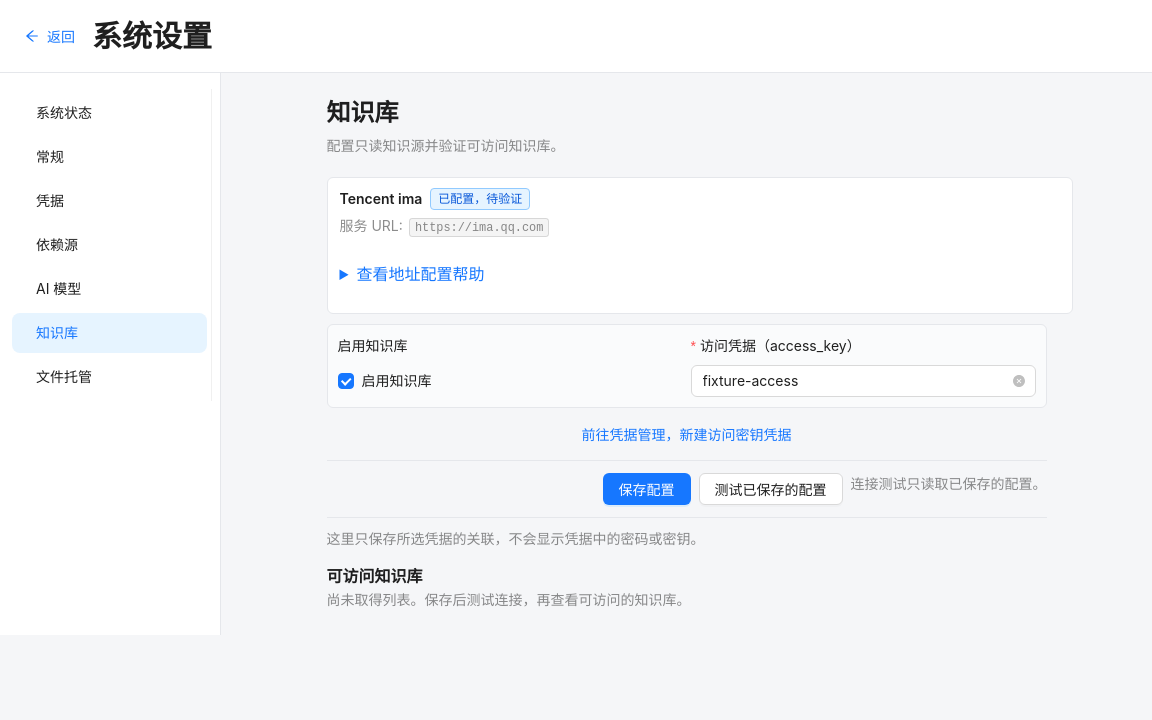
Test: blocks testing and editing until the knowledge configuration save completes
This screenshot has width=1152, height=720.
expect the element with test id "knowledge-source-summary" is shown: met, box [326,177,1072,314]
Step 1. Press the mouse on the element showing "fixture-access" → (863, 381), box [690,365,1036,397]
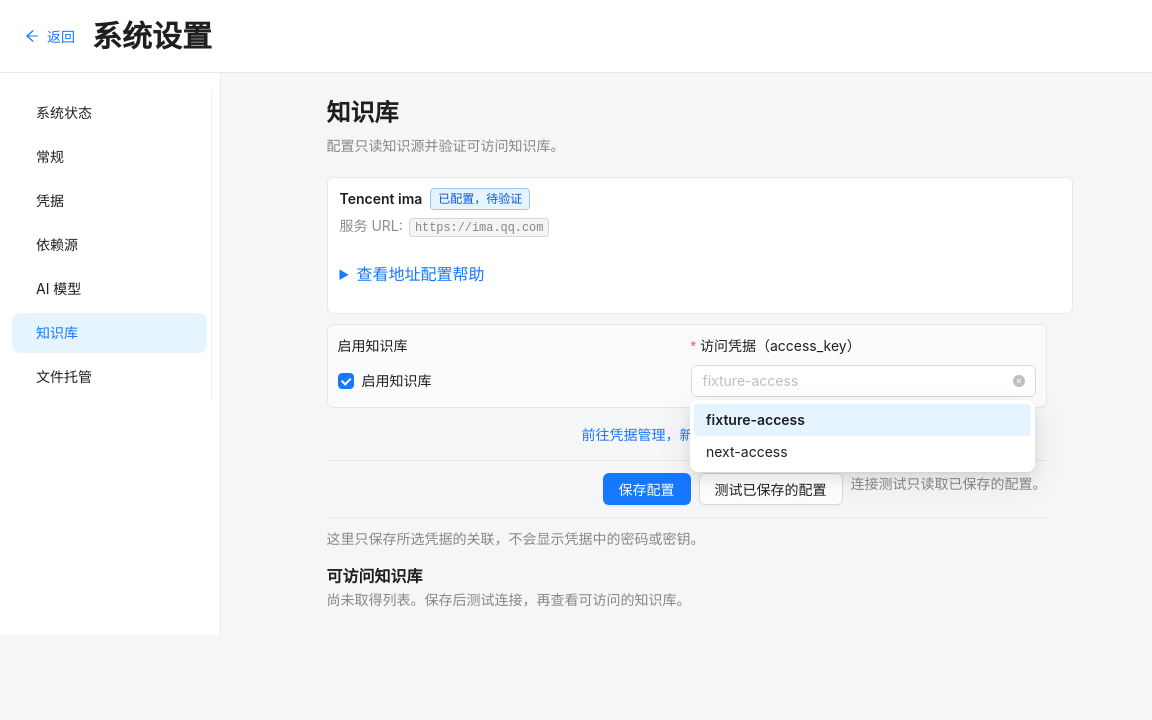
Step 2. Click the text "next-access" → (747, 452), box [706,443,788,460]
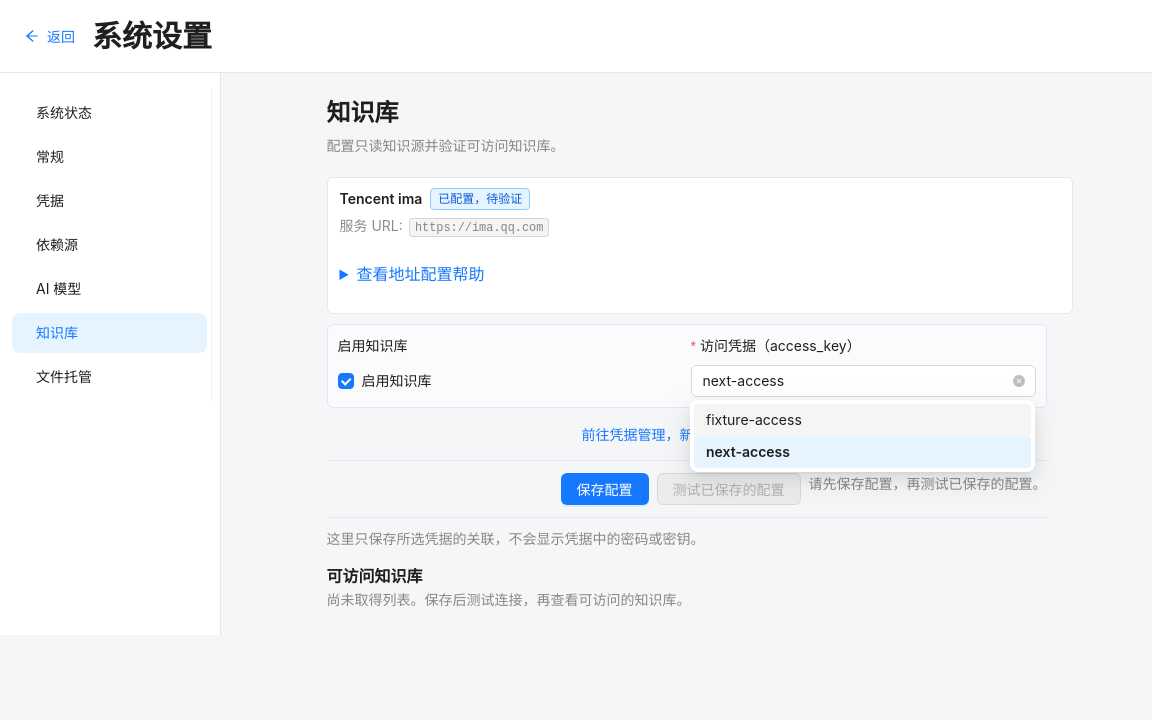
expect the button with test id "test-knowledge-source" is disabled: met, box [656,473,800,505]
Step 3. Click the button with test id "save-knowledge-source" → (604, 489), box [560,473,648,505]
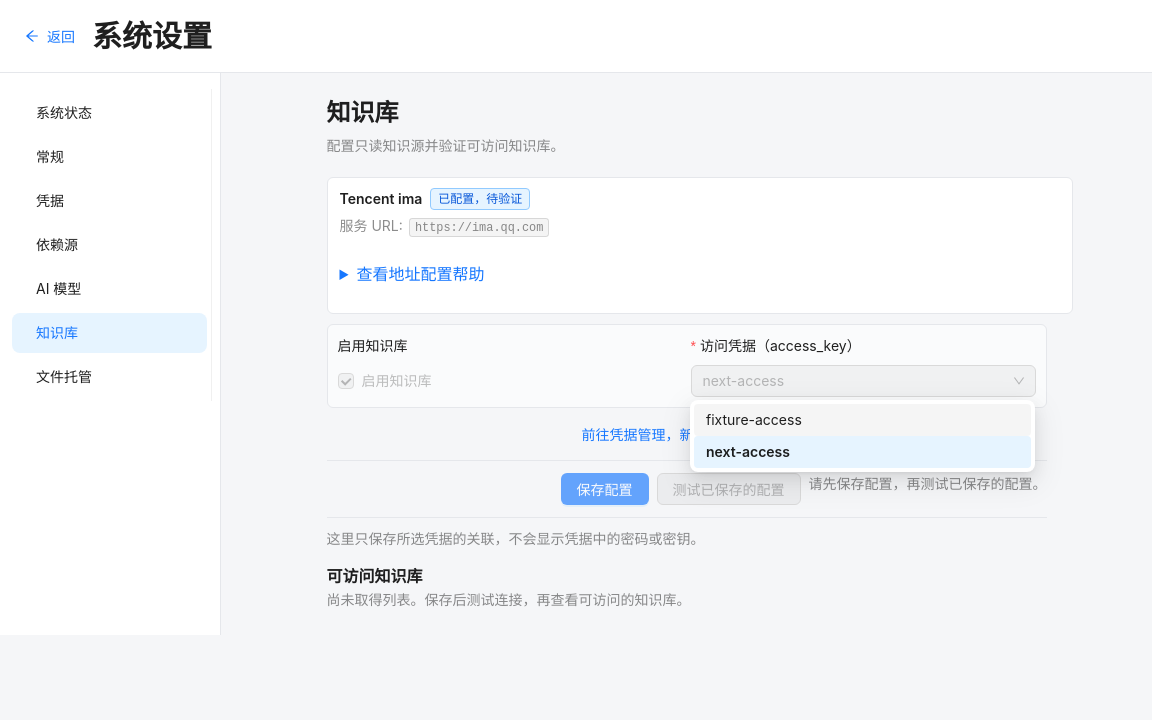
expect the checkbox with test id "knowledge-source-enabled" is disabled: met, box [338,370,440,392]
Step 4. Click the button with test id "test-knowledge-source" → (728, 489), box [656,473,800,505]
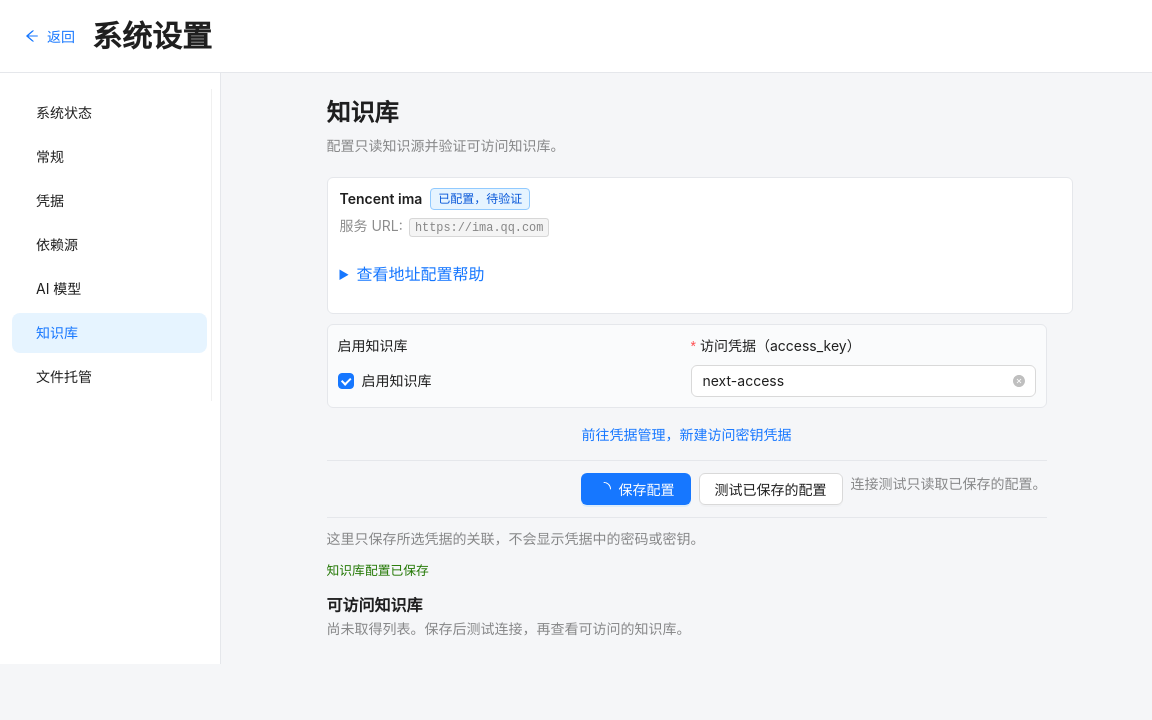
expect the button with test id "test-knowledge-source" is enabled: met
Step 5. Click the button with test id "test-knowledge-source" → (770, 489), box [698,473,842,505]
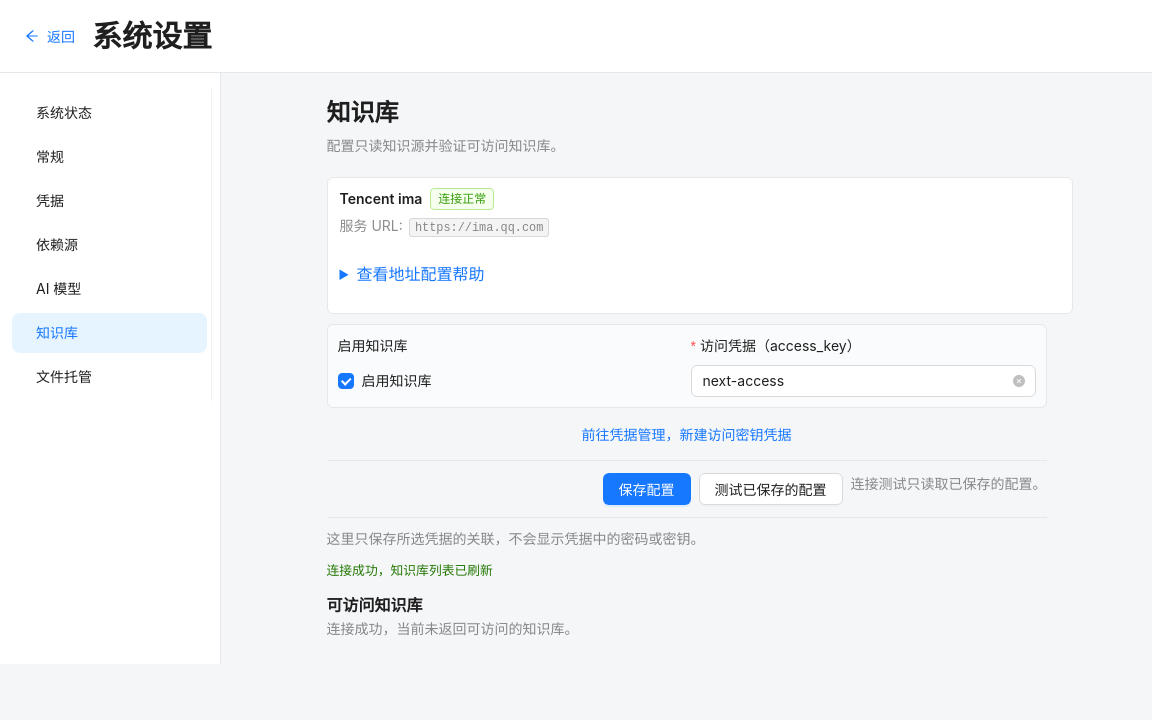
expect the text "连接成功，当前未返回可访问的知识库。" is shown: met, box [326,620,578,637]
